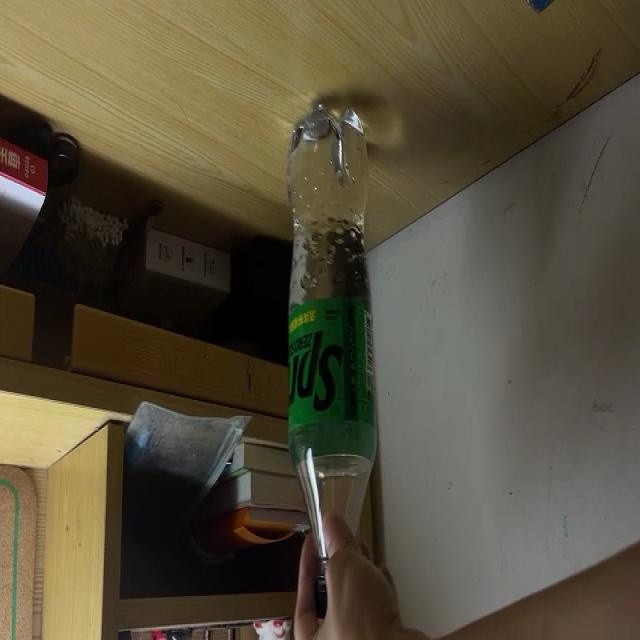Sprite: (286, 101, 378, 619)
